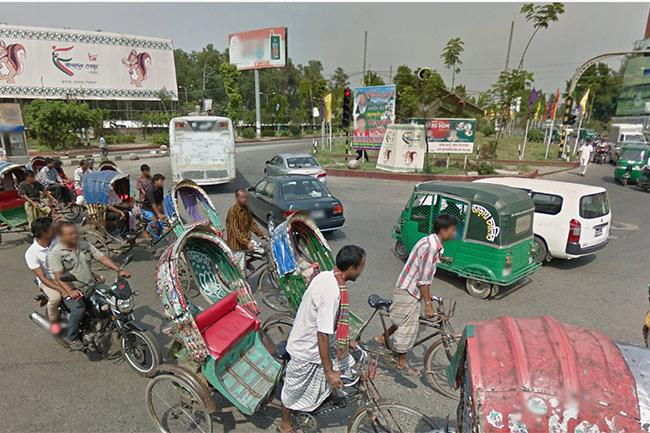Rickshaw: (139, 226, 433, 426), (277, 206, 469, 385), (78, 162, 143, 263), (159, 165, 223, 248), (3, 155, 44, 250), (35, 152, 80, 214)
